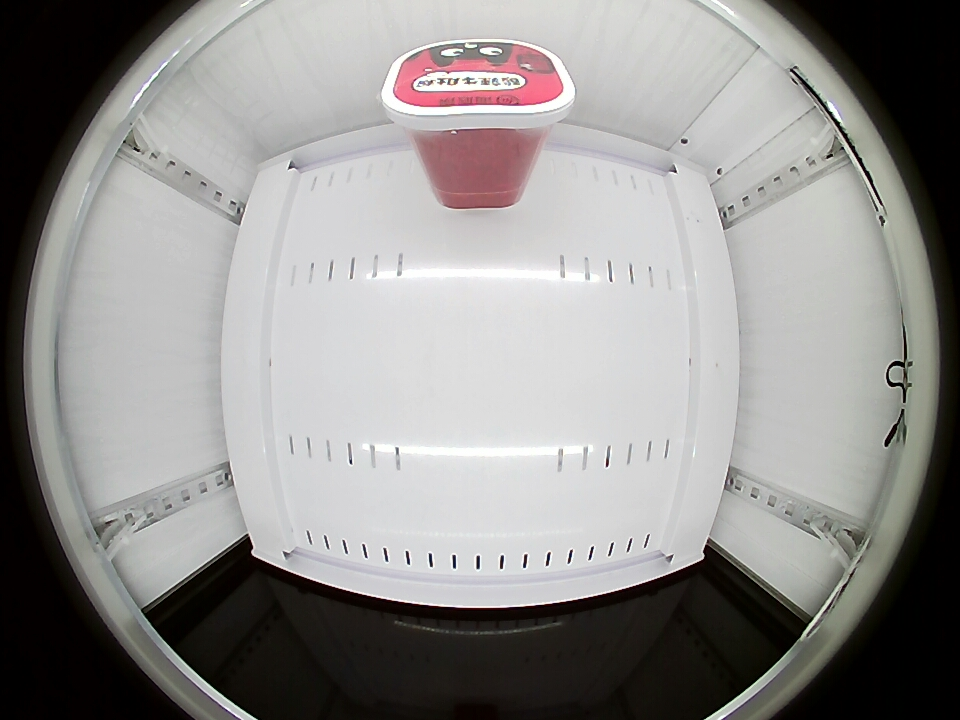niudufen: (381, 39, 576, 146)
